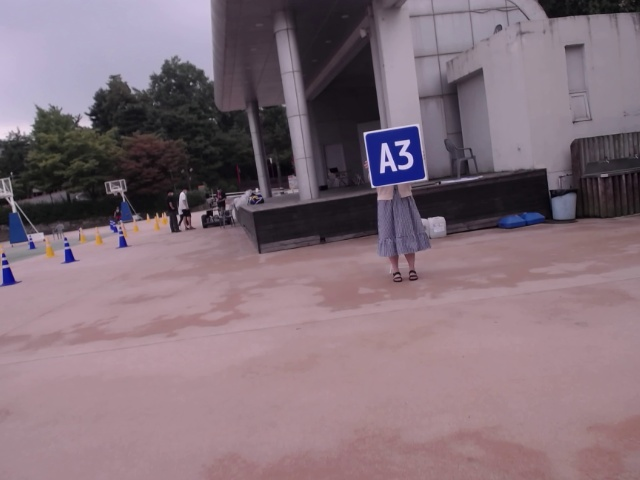delivery_a3: (364, 124, 427, 187)
